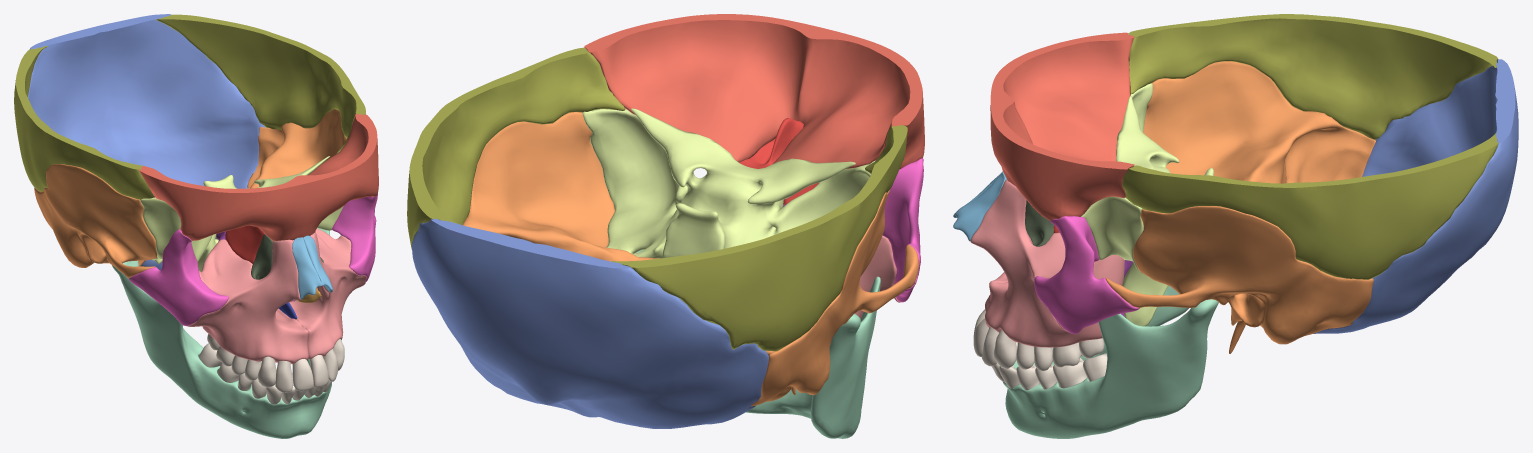
Rendered from open3dmodel-colored-skull-base.glb.
3 views of the same model, side by side, from view 1: azimuth 30°, elevation 25°; view 2: azimuth 150°, elevation 25°; view 3: azimuth 270°, elevation 25° (orthographic). The views are drawn at different scales.
Parts seen in each view (by area): view 1: Occipital bone, Maxilla bone.r, Temporal bones, Frontal bone, Parietal bone.l, Mandible bone, Zygomatic bones, Parietal bone.r, Sphenoid bone, Nasal bone, Upper medial incisors, Ethmoid Bone (+3 smaller); view 2: Occipital bone, Frontal bone, Sphenoid bone, Temporal bones, Parietal bone.r, Parietal bone.l, Mandible bone, Zygomatic bones, Ethmoid Bone, Maxilla bone.r; view 3: Temporal bones, Parietal bone.r, Parietal bone.l, Frontal bone, Occipital bone, Mandible bone, Maxilla bone.r, Sphenoid bone, Zygomatic bones, Nasal bone, Lacrimal bones, Upper canines (+2 smaller).
Part boxes in pixels (left/top/right/bottom): Occipital bone: left=27, top=14, right=265, bottom=270; Maxilla bone.r: left=186, top=228, right=366, bottom=364; Temporal bones: left=34, top=109, right=346, bottom=277; Frontal bone: left=139, top=114, right=378, bottom=240; Parietal bone.l: left=155, top=14, right=365, bottom=153; Mandible bone: left=112, top=228, right=331, bottom=438; Zygomatic bones: left=129, top=193, right=377, bottom=325; Parietal bone.r: left=14, top=46, right=154, bottom=199; Sphenoid bone: left=140, top=156, right=343, bottom=271; Nasal bone: left=292, top=235, right=332, bottom=299; Upper medial incisors: left=292, top=355, right=328, bottom=391; Ethmoid Bone: left=225, top=225, right=264, bottom=263; Occipital bone: left=411, top=218, right=768, bottom=428; Frontal bone: left=584, top=14, right=924, bottom=168; Sphenoid bone: left=582, top=108, right=875, bottom=258; Temporal bones: left=462, top=112, right=918, bottom=406; Parietal bone.r: left=611, top=125, right=907, bottom=351; Parietal bone.l: left=407, top=47, right=625, bottom=249; Mandible bone: left=635, top=250, right=880, bottom=438; Zygomatic bones: left=882, top=158, right=923, bottom=302; Ethmoid Bone: left=739, top=118, right=818, bottom=204; Maxilla bone.r: left=855, top=235, right=900, bottom=318; Temporal bones: left=1105, top=61, right=1375, bottom=353; Parietal bone.r: left=1128, top=14, right=1498, bottom=139; Parietal bone.l: left=1122, top=133, right=1498, bottom=279; Frontal bone: left=990, top=32, right=1134, bottom=220; Occipital bone: left=1313, top=59, right=1518, bottom=333; Mandible bone: left=1003, top=286, right=1218, bottom=438; Maxilla bone.r: left=970, top=179, right=1124, bottom=347; Sphenoid bone: left=1081, top=83, right=1213, bottom=326; Zygomatic bones: left=1034, top=216, right=1139, bottom=334; Nasal bone: left=953, top=171, right=1006, bottom=241; Lacrimal bones: left=1025, top=200, right=1053, bottom=246; Upper canines: left=993, top=329, right=1016, bottom=368.
Size of the model in its own units: 0.1485 by 0.1286 by 0.2038.
